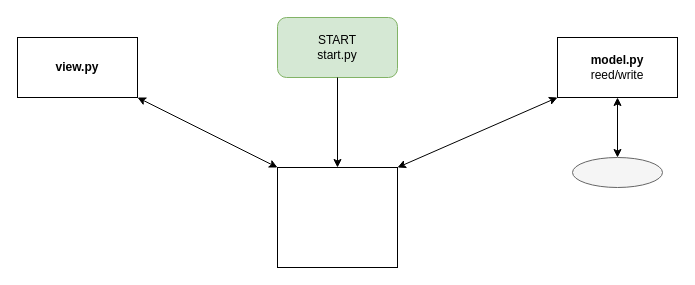
Some shapes in this 695 by 285 pixel diagram are drawn without their labels. The box of each missing label's shape, as (x1, y1, x2, y2) in pixels:
controller.py sort file check: (276, 166, 398, 268)
file.csv: (572, 156, 662, 188)
